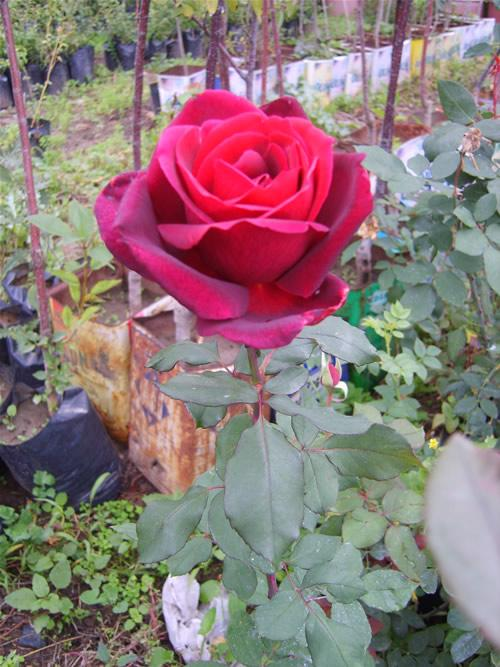Rose: (97, 85, 382, 363)
